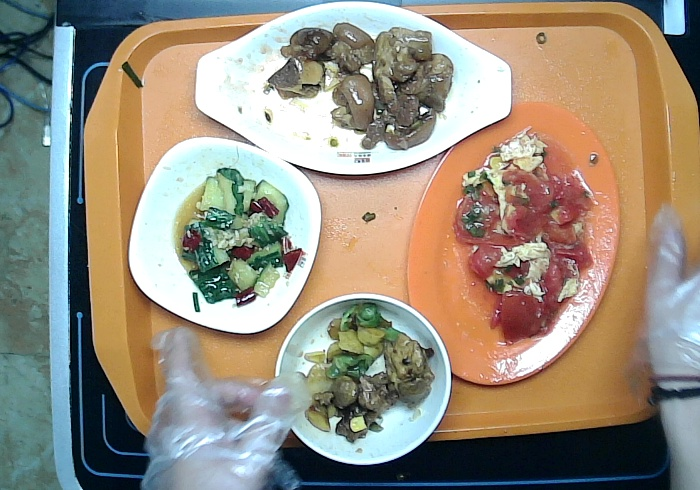NLDX-Bai_Se_Xiao_Fang_Die: (129, 137, 322, 334)
NLDX-Fan_Wan: (276, 291, 451, 465)
NLDX-Ju_Se_Pan: (408, 101, 621, 385)
NLDX-Yu_Pan: (195, 1, 512, 176)
